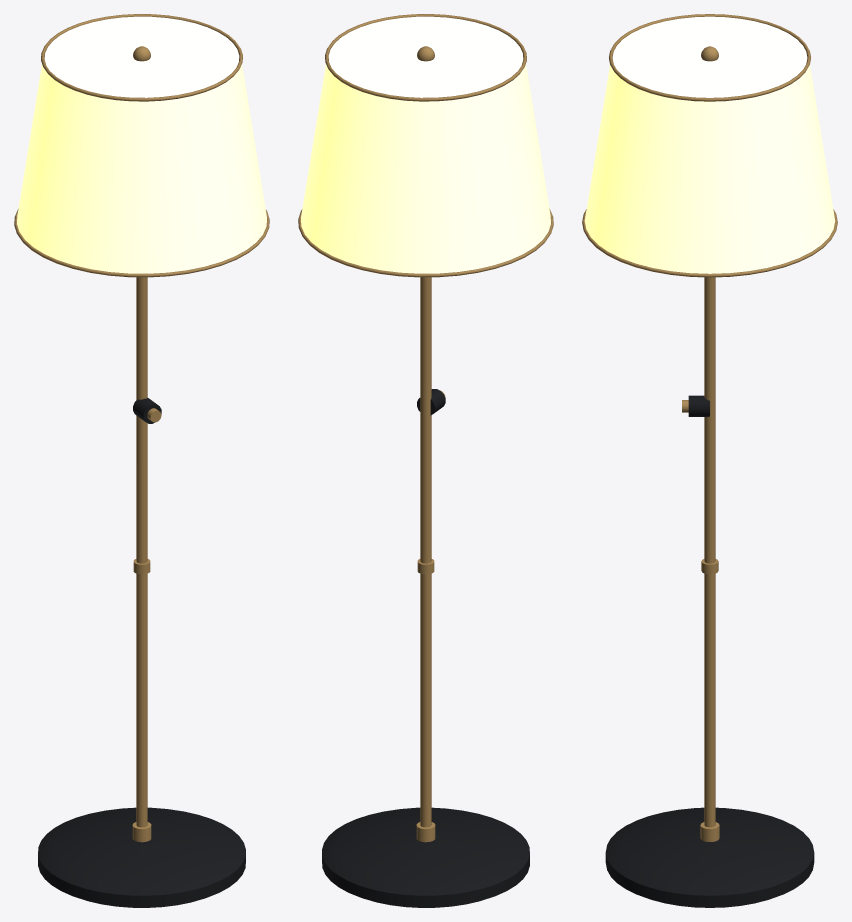
Rendered from floorlamp.glb.
The picture shows the model from 3 angles, left to right: view 1: azimuth 30°, elevation 25°; view 2: azimuth 150°, elevation 25°; view 3: azimuth 270°, elevation 25°; orthographic projection.
Visible parts, largest first — view 1: floorlamp_lamp_shade, floorlamp_fl_base, floorlamp_fl_brass; view 2: floorlamp_lamp_shade, floorlamp_fl_base, floorlamp_fl_brass; view 3: floorlamp_lamp_shade, floorlamp_fl_base, floorlamp_fl_brass.
Boxes of the visible parts, <box> form: floorlamp_lamp_shade: <box>17,16,266,273</box>; floorlamp_fl_base: <box>38,398,245,907</box>; floorlamp_fl_brass: <box>14,14,269,842</box>; floorlamp_lamp_shade: <box>301,16,550,273</box>; floorlamp_fl_base: <box>322,389,529,907</box>; floorlamp_fl_brass: <box>298,14,553,842</box>; floorlamp_lamp_shade: <box>584,16,835,273</box>; floorlamp_fl_base: <box>605,395,814,907</box>; floorlamp_fl_brass: <box>582,14,837,841</box>.
Size of the model in its own units: 0.4789 by 1.69 by 0.4789.
